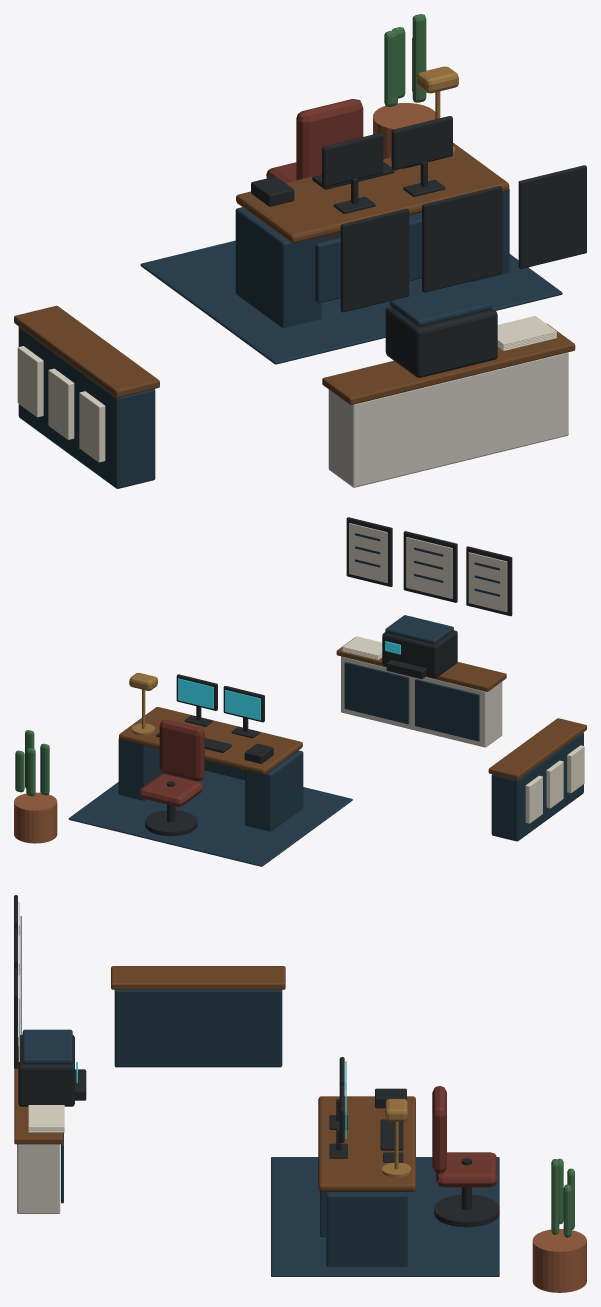
File: office-dressing-v002.glb
3 renders of one model, top to bottom at view 1: azimuth 30°, elevation 25°; view 2: azimuth 150°, elevation 25°; view 3: azimuth 270°, elevation 25°, orthographic. The views are drawn at different scales.
Parts seen in each view (by area): view 1: Export Executive desk top; view 2: Export Executive desk top; view 3: Export Executive desk top.
Boxes of the visible parts, x1=… form: Export Executive desk top: x1=14, y1=14, x2=586, y2=488; Export Executive desk top: x1=14, y1=517, x2=586, y2=866; Export Executive desk top: x1=14, y1=895, x2=586, y2=1292.
Bounding box in the file's own units: 5.07 × 2.23 × 5.06.
